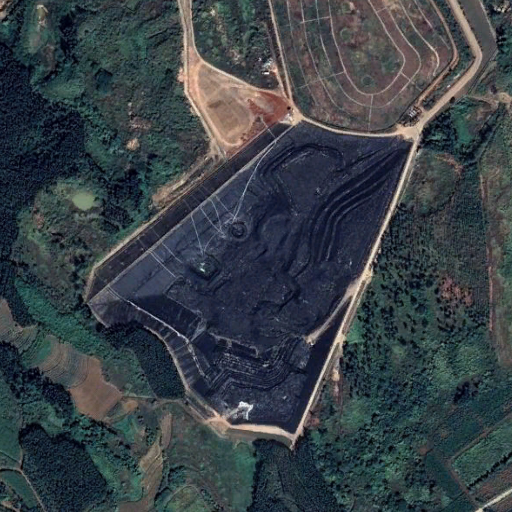lf: (83, 114, 412, 433)
